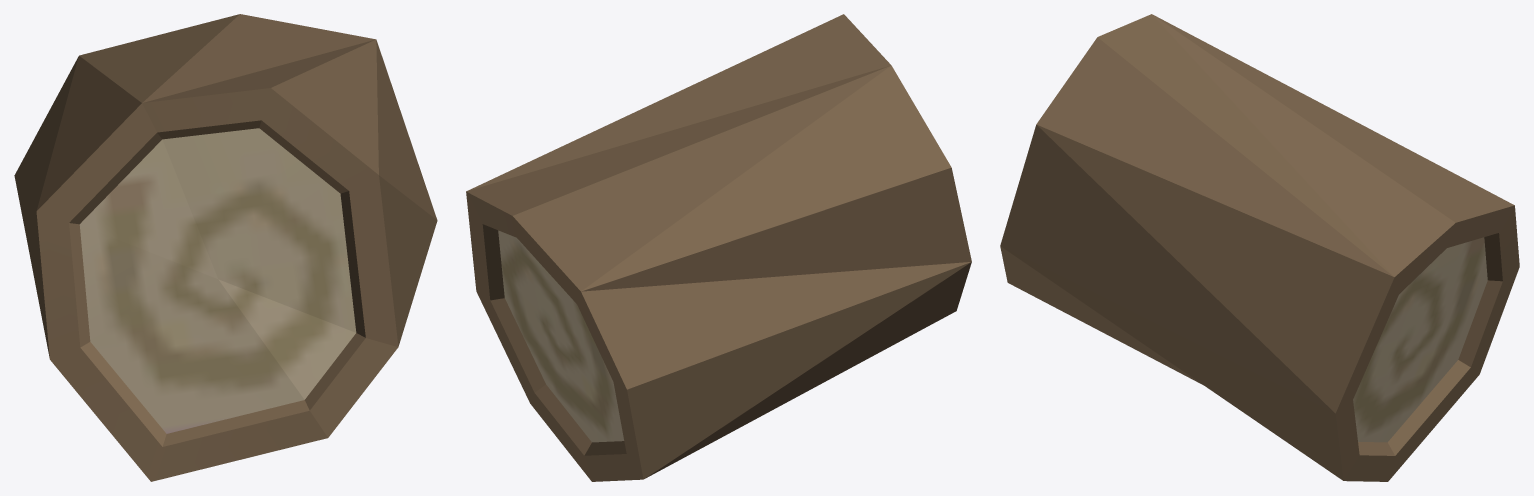
Rendered from bastardWood.fbx.
3 views of the same model, side by side, from view 1: azimuth 30°, elevation 25°; view 2: azimuth 150°, elevation 25°; view 3: azimuth 270°, elevation 25° (orthographic). The views are drawn at different scales.
Parts seen in each view (by area): view 1: bastardWood; view 2: bastardWood; view 3: bastardWood.
Boxes of the visible parts, box(x1,y1,x2,y2) form: bastardWood: box(14, 14, 437, 481); bastardWood: box(466, 14, 971, 481); bastardWood: box(1000, 14, 1519, 481).
Size of the model in its own units: 1.43 by 1.32 by 1.59.
